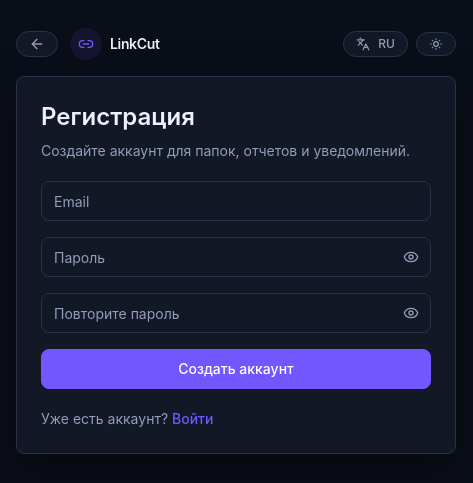
Test case: registration password validation › shows the password confirmation mismatch message before submitting
This screenshot has width=473, height=483.
Type "12345678" into the password field with placeholder "Пароль" at (236, 257), box [41,237,431,277]
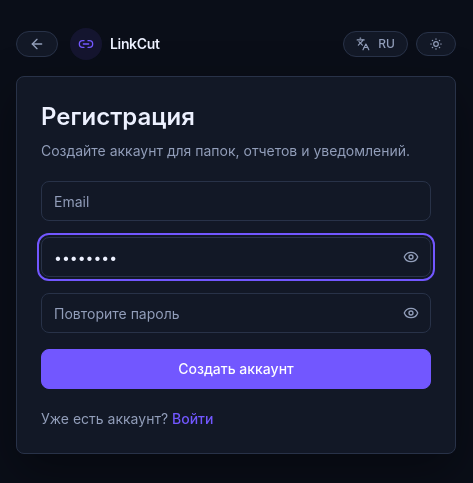
Type "87654321" into the password field with placeholder "Повторите пароль" at (236, 313), box [41,293,431,333]
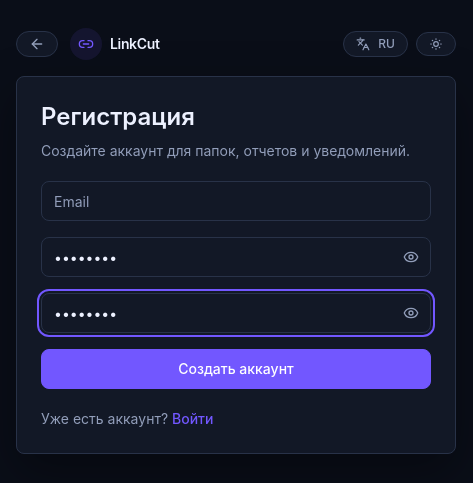
Click the button "Создать аккаунт" at (236, 369), box [41,349,431,389]
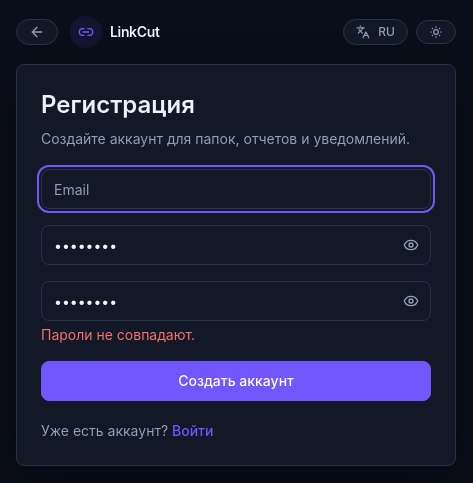
Now the text "Пароли не совпадают." is shown, box [41,326,195,343]
